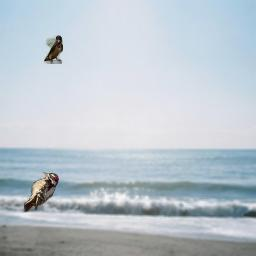Swallow: (44, 35, 63, 64)
Woodpecker: (24, 172, 59, 212)
